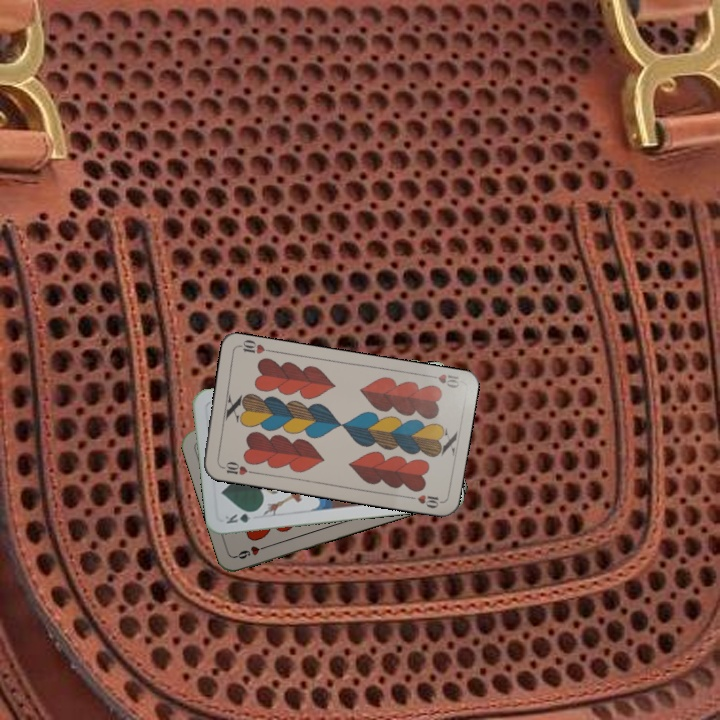GK: (221, 507, 260, 526)
H10: (422, 370, 462, 391), (217, 458, 257, 478)
H9: (232, 541, 271, 561)
